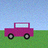vehicle: (4, 23, 33, 39)
